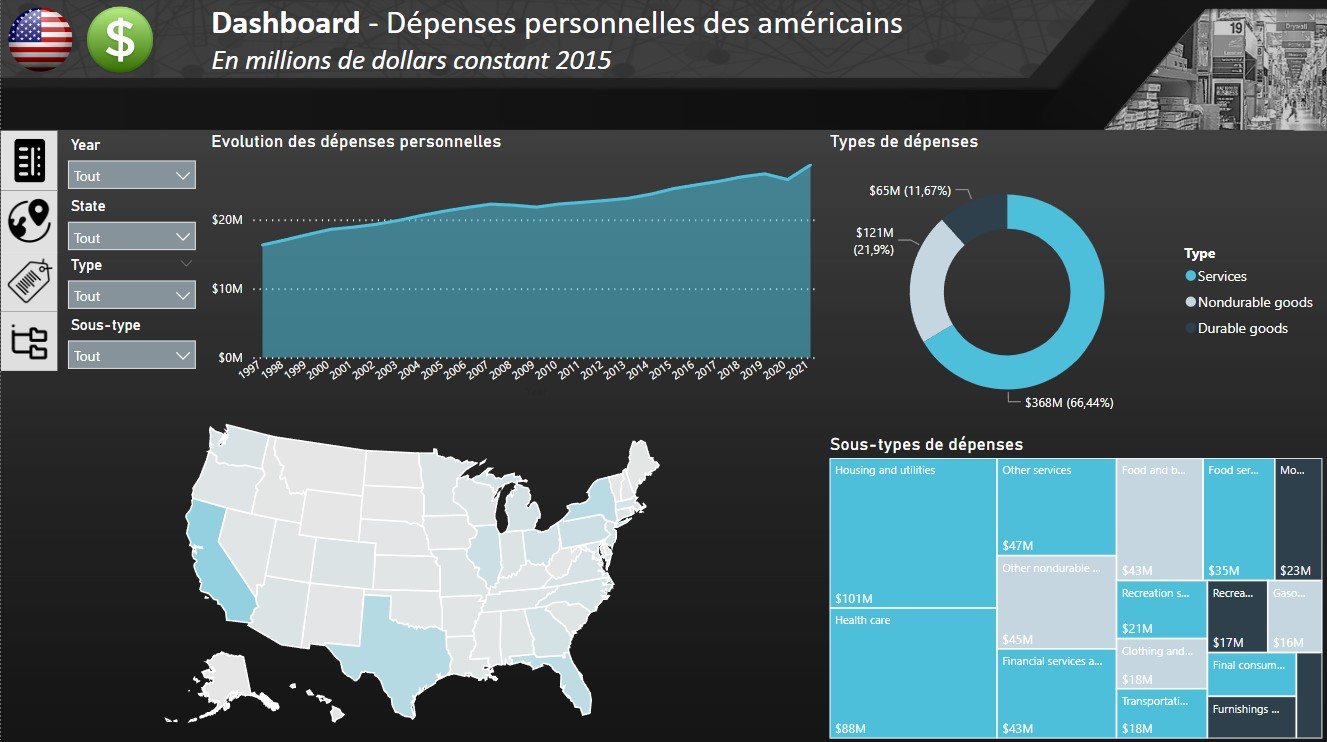

What the dashboard file says about the page in this screenshot:
{"tool":"powerbi","page":{"name":"Total","canvas":[1280,720],"ordinal":0},"visuals":[{"type":"treemap","title":"Sous-types de dépenses","fields":{"Group":["data_1_1997_2021_transforme.Description"],"Values":["Sum(data_1_1997_2021_transforme.Value)"]},"box":[794.8,420.9,484.8,299.1],"z":0},{"type":"donutChart","title":"Types de dépenses","fields":{"Category":["data_1_1997_2021_transforme.Type"],"Y":["Sum(data_1_1997_2021_transforme.Value)"]},"box":[794.8,129,484.8,291.9],"z":1000},{"type":"image","box":[76.3,0,77.9,82.1],"z":2000},{"type":"textbox","box":[197.8,0,691.1,82],"z":3000},{"type":"shapeMap","fields":{"Category":["data_1_1997_2021_transforme.State"]},"box":[0,392,794.8,328],"z":4000},{"type":"image","box":[0,186.9,54.3,59.1],"z":5000},{"type":"slicer","fields":{"Values":["data_1_1997_2021_transforme.Type"]},"box":[53.9,244.6,143.8,57.9],"z":6000},{"type":"image","box":[0,246,54.3,57.9],"z":7000},{"type":"slicer","fields":{"Values":["data_1_1997_2021_transforme.State"]},"box":[53.9,187.7,143.8,57.9],"z":8000},{"type":"slicer","fields":{"Values":["data_1_1997_2021_transforme.Year"]},"box":[53.9,128.8,143.8,57.9],"z":9000},{"type":"image","box":[0,129,54.3,57.9],"z":10000},{"type":"areaChart","title":"Evolution des dépenses personnelles","fields":{"Category":["data_1_1997_2021_transforme.Year"],"Y":["Sum(data_1_1997_2021_transforme.Value)"]},"box":[197.8,129,597,262.9],"z":11000},{"type":"slicer","title":"Sous-type","fields":{"Values":["data_1_1997_2021_transforme.Description"]},"box":[53.9,302.5,143.8,57.9],"z":12000},{"type":"image","box":[0,303.9,54.3,56.7],"z":13000},{"type":"image","box":[0,0,76.3,82.1],"z":14000}]}

Visuals, with their boxes in screenshot pixels (x1, y1, x2, y2), scaled from the page's 1280x720 canvas onto the 1327x742 screenshot:
"Sous-types de dépenses" treemap: (824, 434, 1326, 741)
"Types de dépenses" donutChart: (824, 133, 1326, 434)
image: (79, 0, 160, 85)
textbox: (205, 0, 922, 85)
shapeMap - data_1_1997_2021_transforme.State: (0, 404, 824, 741)
image: (0, 193, 56, 254)
slicer - data_1_1997_2021_transforme.Type: (56, 252, 205, 312)
image: (0, 254, 56, 313)
slicer - data_1_1997_2021_transforme.State: (56, 193, 205, 253)
slicer - data_1_1997_2021_transforme.Year: (56, 133, 205, 192)
image: (0, 133, 56, 193)
"Evolution des dépenses personnelles" areaChart: (205, 133, 824, 404)
"Sous-type" slicer: (56, 312, 205, 371)
image: (0, 313, 56, 372)
image: (0, 0, 79, 85)
